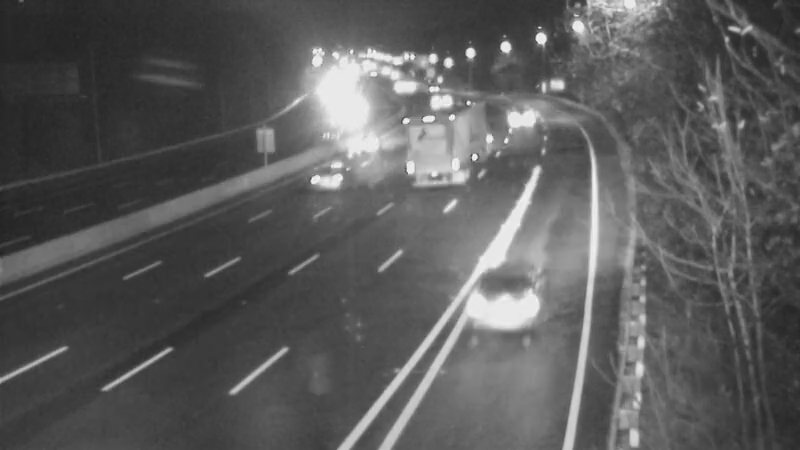vehicle: (448, 262, 558, 372), (289, 140, 369, 220), (439, 77, 489, 127), (417, 75, 467, 125), (496, 86, 546, 136), (414, 116, 464, 166), (344, 118, 394, 168), (317, 84, 367, 134)
